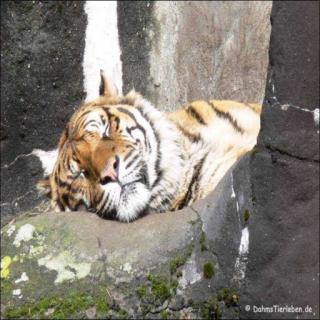Tiger: (25, 62, 264, 225)
